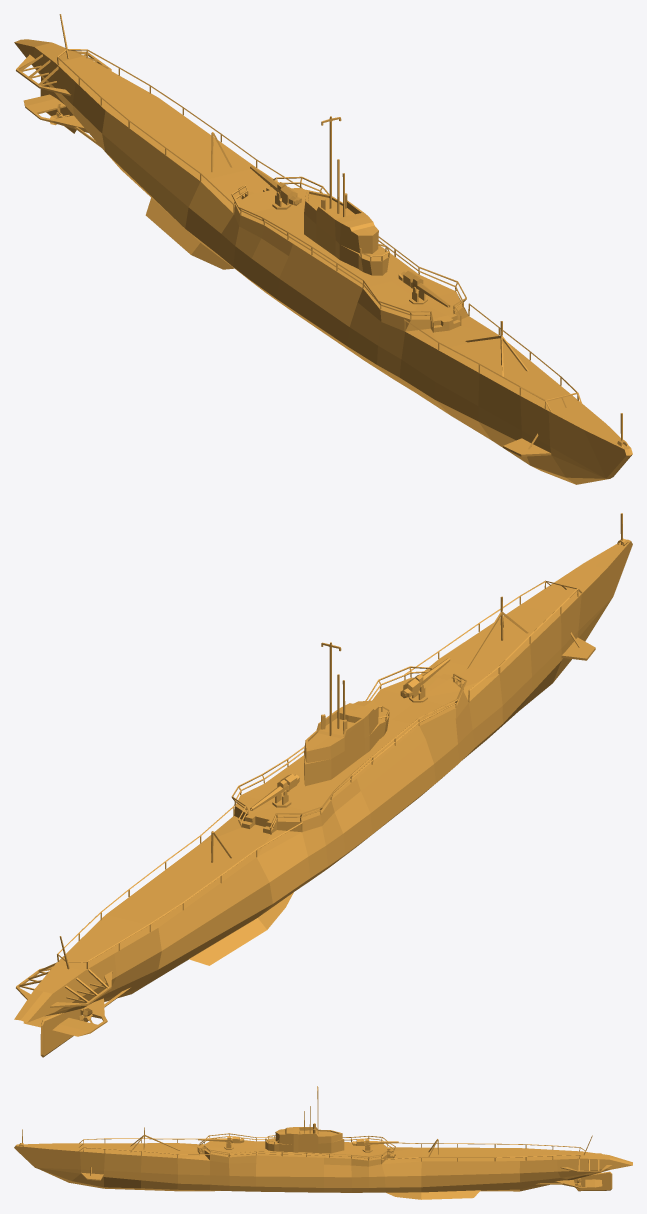
The model's file is Nautilus-SS-168.fbx.
3 renders of one model, top to bottom at view 1: azimuth 30°, elevation 25°; view 2: azimuth 150°, elevation 25°; view 3: azimuth 270°, elevation 25°, orthographic. The views are drawn at different scales.
Visible parts, largest first — view 1: Nautilus-SS-168.fbx; view 2: Nautilus-SS-168.fbx; view 3: Nautilus-SS-168.fbx.
Boxes of the visible parts, bbox=[...] form: Nautilus-SS-168.fbx: bbox=[14, 14, 632, 484]; Nautilus-SS-168.fbx: bbox=[14, 513, 632, 1057]; Nautilus-SS-168.fbx: bbox=[14, 1086, 632, 1199].
Bounding box in the file's own units: 10.27 × 21.07 × 113.
